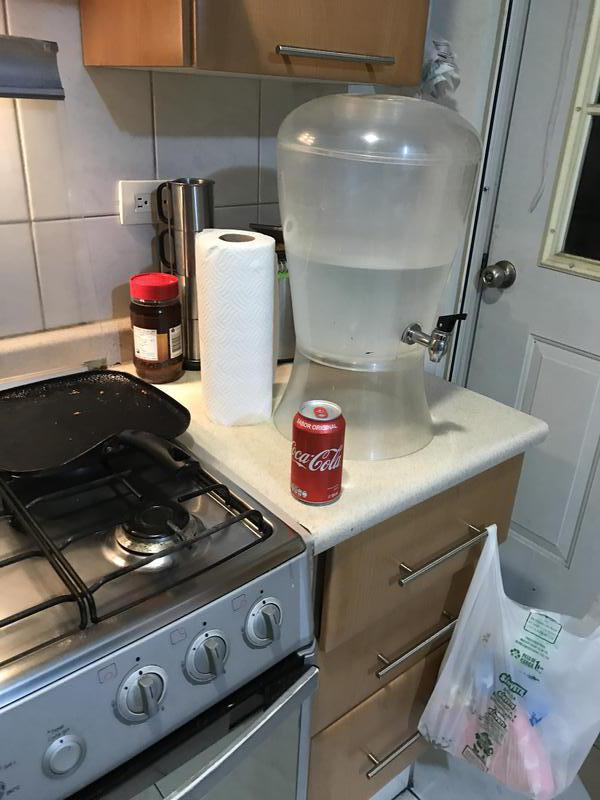coca_cola: (292, 399, 346, 509)
